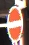No entry: (5, 6, 24, 40)
